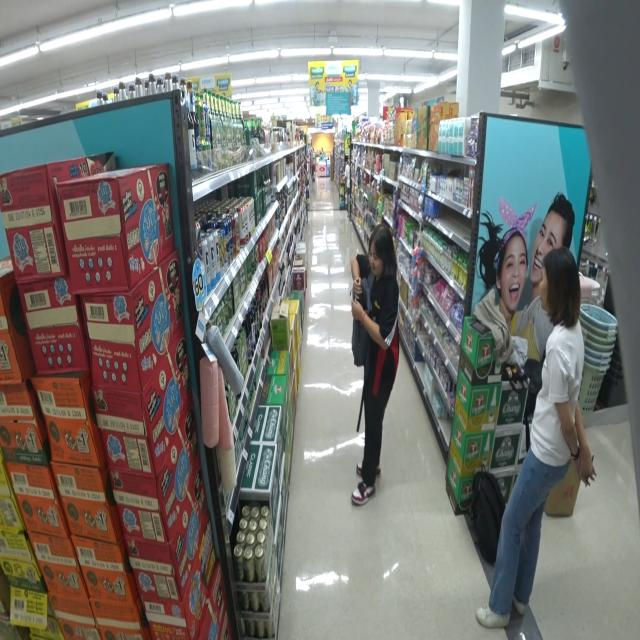shoplifting: (351, 220, 402, 507)
